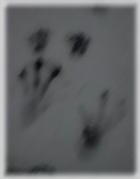lynx: (45, 65, 94, 137)
